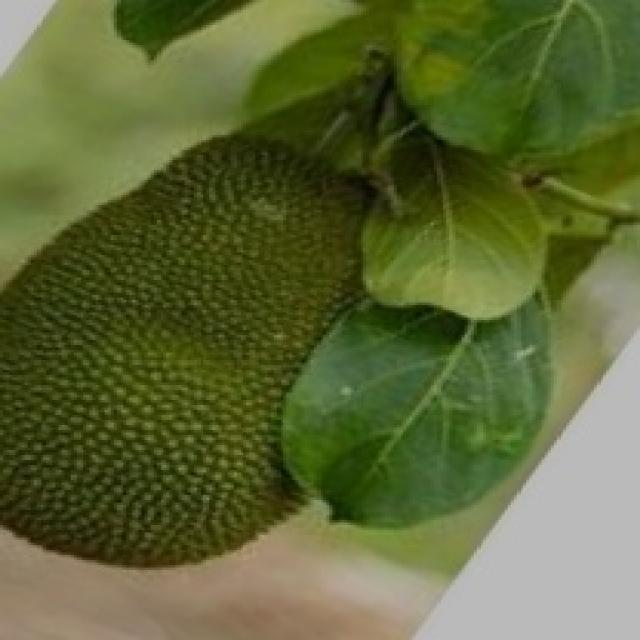Fruit: (0, 255, 391, 603)
